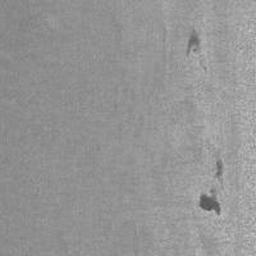Inclusion: (198, 188, 223, 218), (183, 24, 204, 59), (211, 154, 225, 180)
